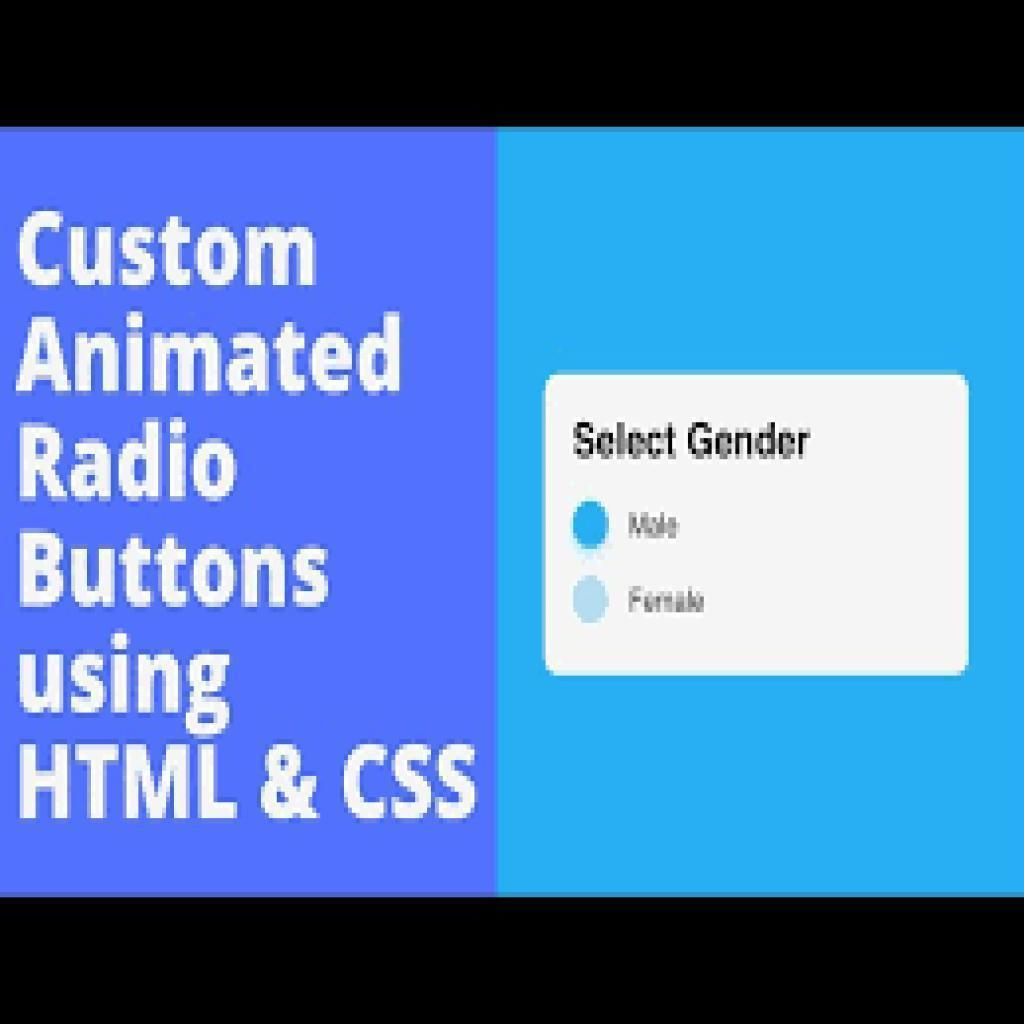icon: (627, 580, 711, 621), (620, 503, 686, 550)
radio: (567, 497, 615, 554), (569, 575, 612, 627)
